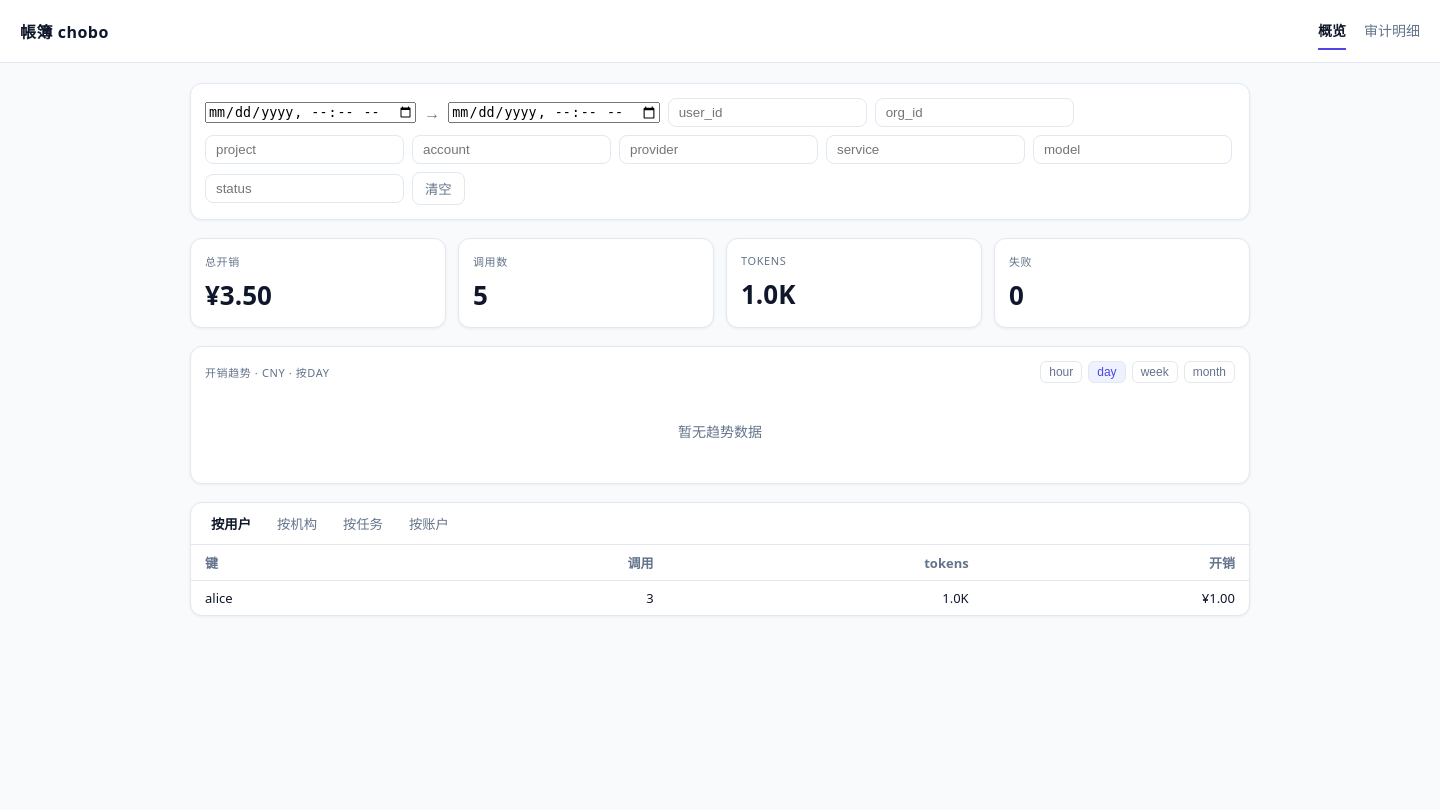
Test: nav switches to the audit page
What coordinates should you click on to do the following:
click the button "审计明细"
I would click on:
 (1392, 31)
Its box is [1364,12,1420,50].
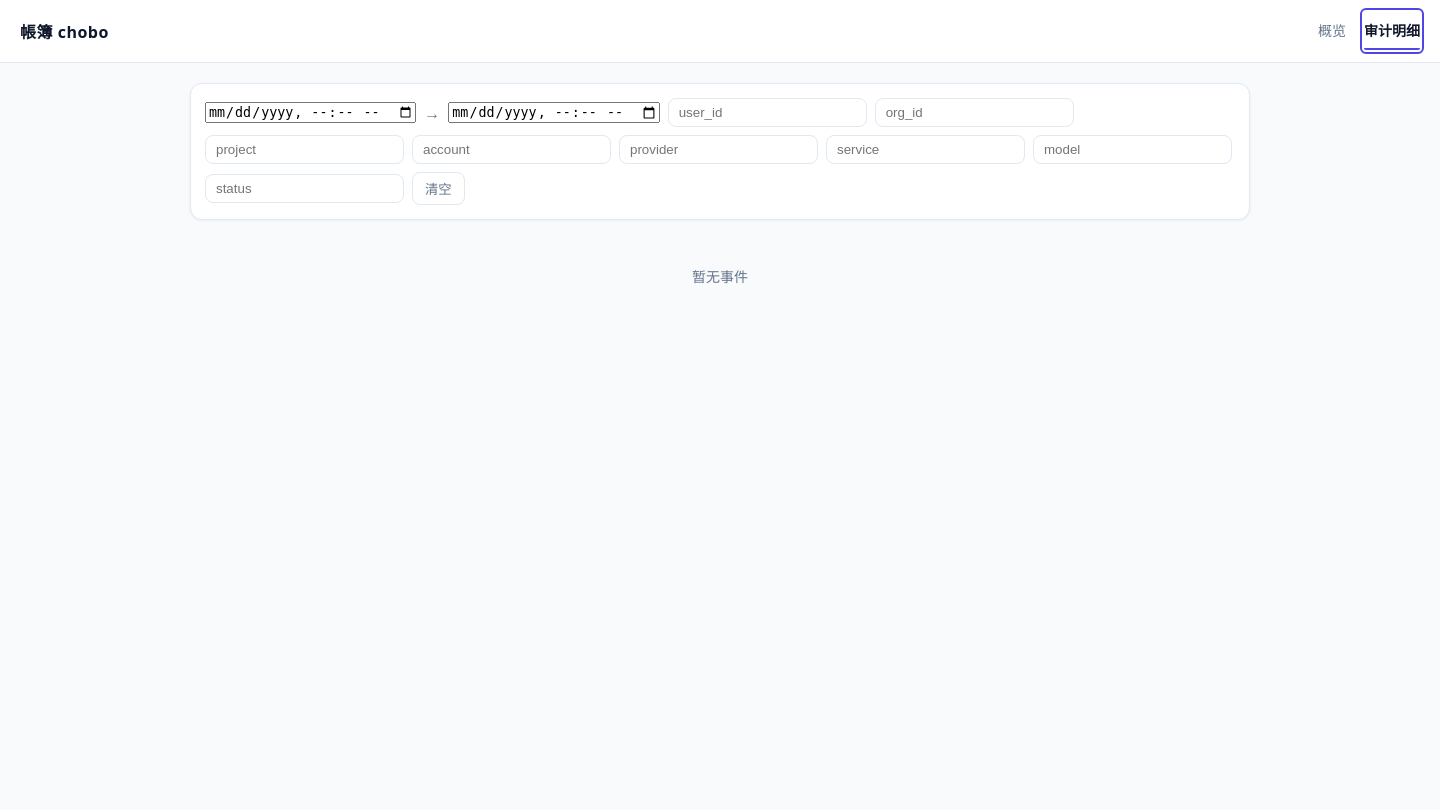
Result: the text "暂无事件" is shown at [692,267,748,286]
